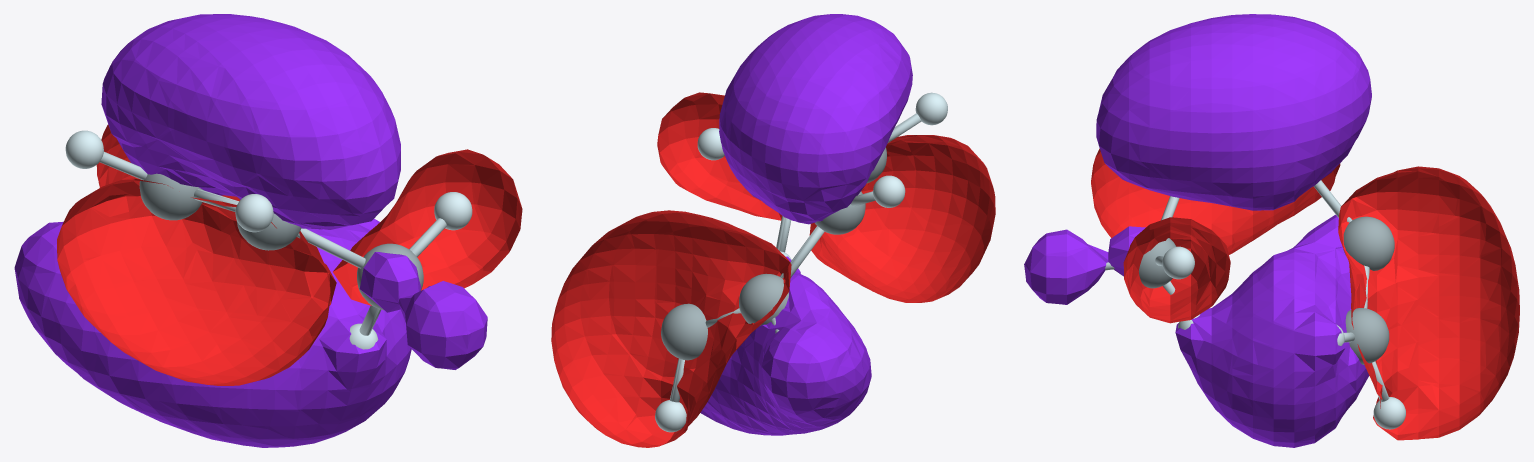
3 views of the same model, side by side, from view 1: azimuth 30°, elevation 25°; view 2: azimuth 150°, elevation 25°; view 3: azimuth 270°, elevation 25° (orthographic). The views are drawn at different scales.
Parts seen in each view (by area): view 1: Renderer Node; view 2: Renderer Node; view 3: Renderer Node.
Part boxes in pixels (x1=…): Renderer Node: x1=14, y1=14, x2=522, y2=447; Renderer Node: x1=551, y1=14, x2=995, y2=447; Renderer Node: x1=1024, y1=14, x2=1519, y2=447.
Size of the model in its own units: 4.81 by 5.16 by 6.06.
